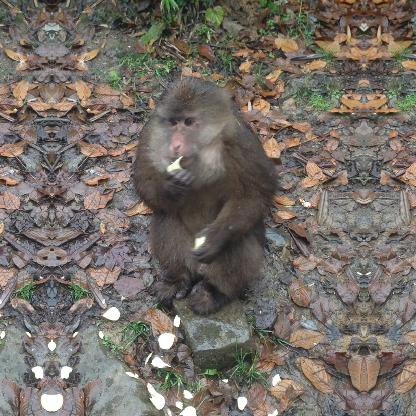Monkey: (131, 72, 279, 312)
